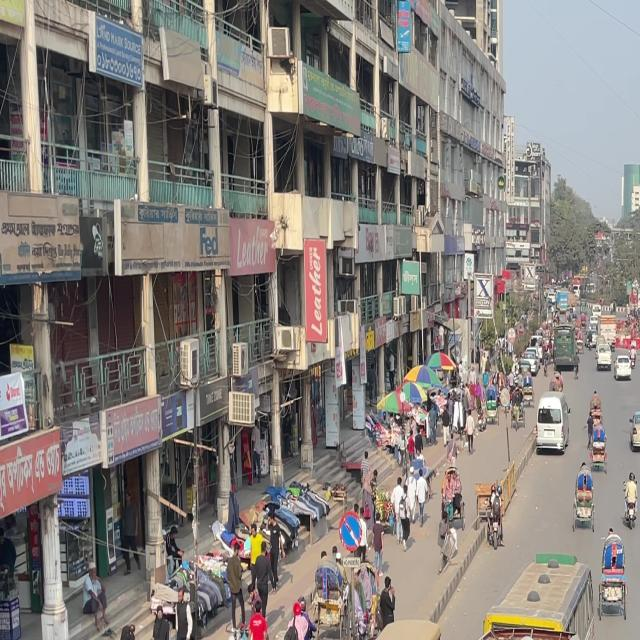bus: (297, 628, 594, 640)
car: (533, 398, 568, 452), (613, 348, 635, 379), (626, 416, 640, 454), (613, 360, 634, 383)
motorbike: (623, 466, 639, 524)
